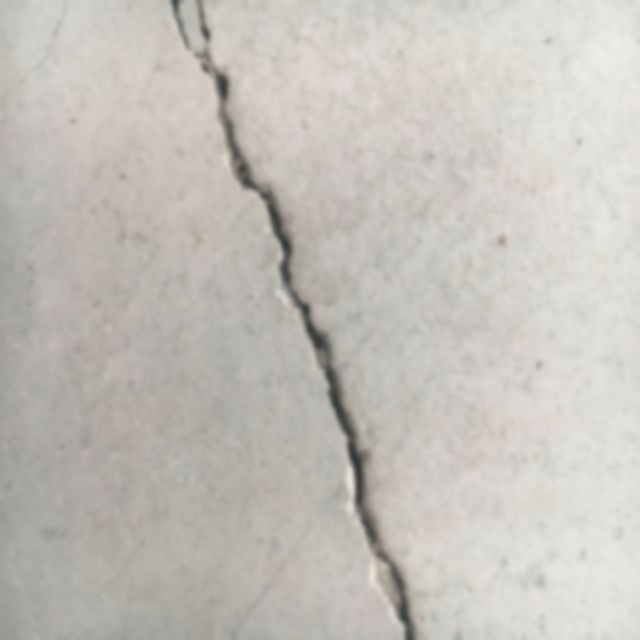SurfaceCrack: (146, 0, 448, 639)
